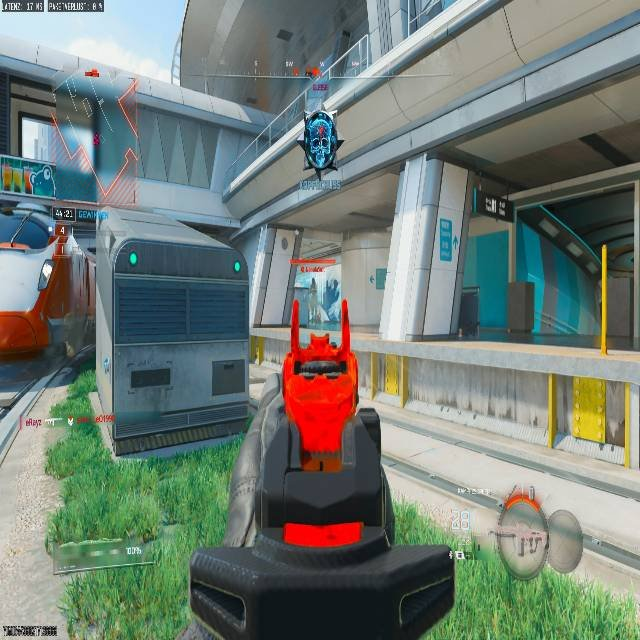player: (302, 108, 342, 177)
